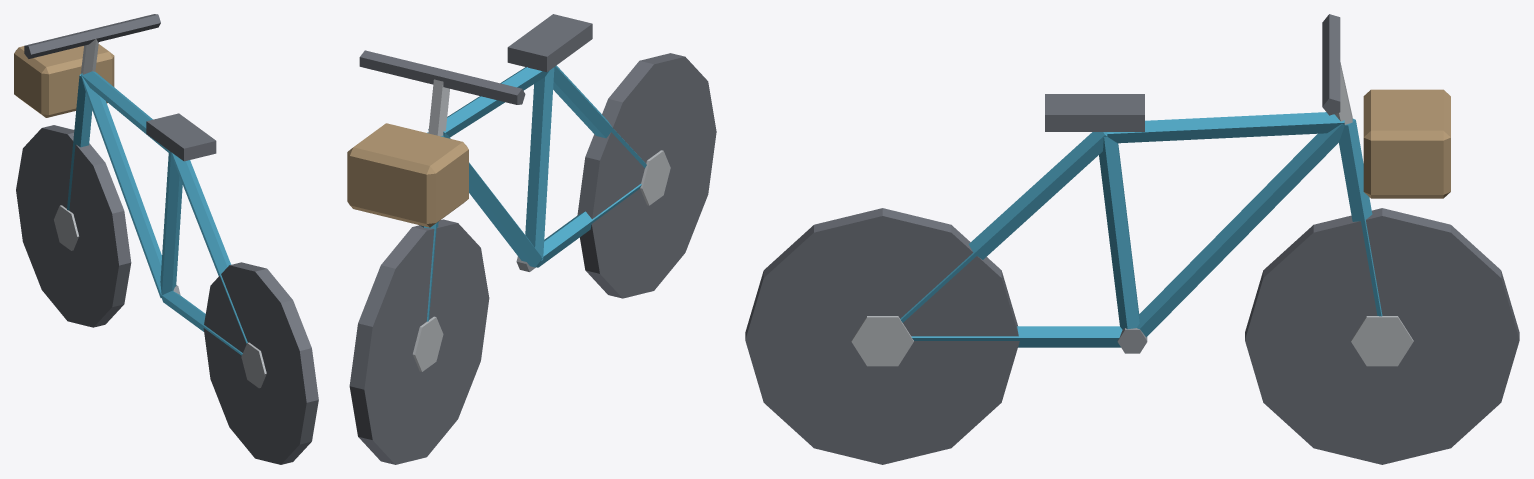
Rendered from veiculos__bicicleta.glb.
3 renders of one model, left to right at view 1: azimuth 30°, elevation 25°; view 2: azimuth 150°, elevation 25°; view 3: azimuth 270°, elevation 25°, orthographic. The views are drawn at different scales.
Parts seen in each view (by area): view 1: veiculos__bicicleta; view 2: veiculos__bicicleta; view 3: veiculos__bicicleta.
Part boxes in pixels (x1=…): veiculos__bicicleta: x1=14, y1=14, x2=318, y2=464; veiculos__bicicleta: x1=347, y1=14, x2=716, y2=464; veiculos__bicicleta: x1=745, y1=14, x2=1519, y2=464.
Bounding box in the file's own units: 0.16 × 0.3576 × 0.62.
